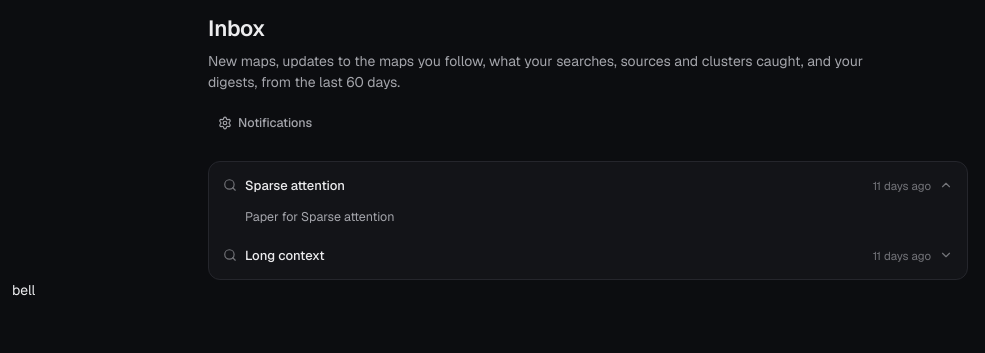
Scenario: InboxPage › opens another entry when the bell links to it while the page is open
The image size is (985, 353).
Expected: the link "Paper for Sparse attention" is shown, [245, 208, 394, 224]
Click the link "bell".
click(24, 290)  # box [12, 281, 35, 299]
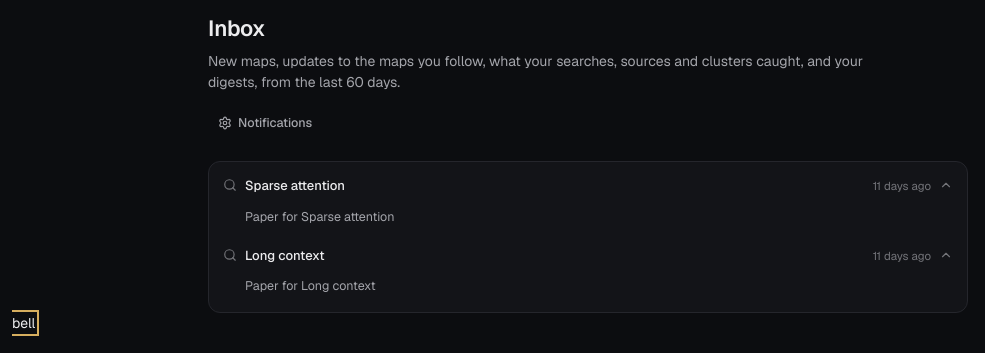
Expected: the link "Paper for Long context" is shown, [245, 277, 376, 294]
